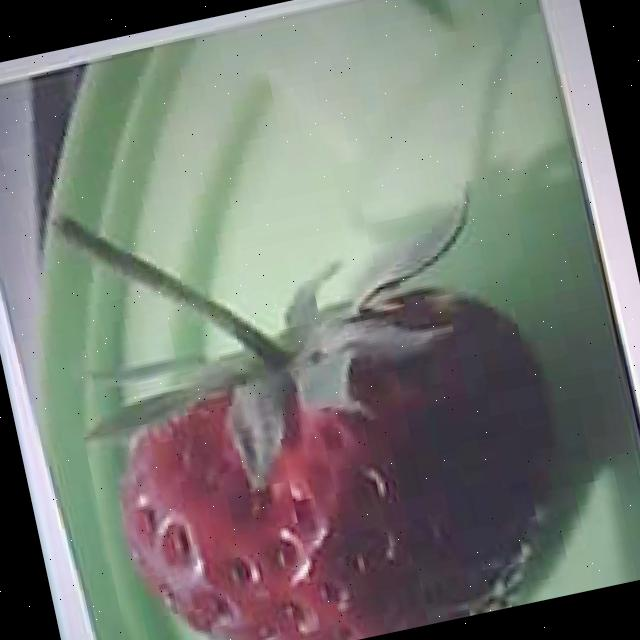strawberry: (89, 271, 583, 640)
